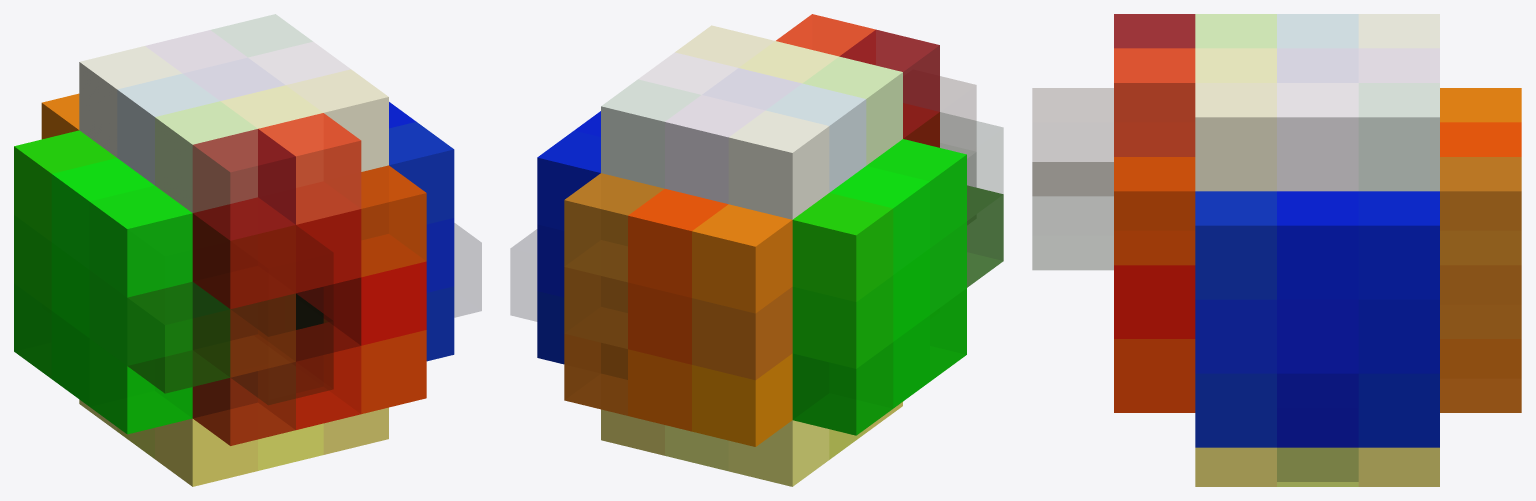
File: iter_100.obj
3 renders of one model, left to right at view 1: azimuth 30°, elevation 25°; view 2: azimuth 150°, elevation 25°; view 3: azimuth 270°, elevation 25°, orthographic. The views are drawn at different scales.
Parts seen in each view (by area): view 1: iter_100; view 2: iter_100; view 3: iter_100.
Boxes of the visible parts, bbox=[...] form: iter_100: bbox=[14, 14, 481, 486]; iter_100: bbox=[510, 14, 1003, 486]; iter_100: bbox=[1032, 14, 1521, 486].
Bounding box in the file's own units: 0.6 × 0.5 × 0.6.
